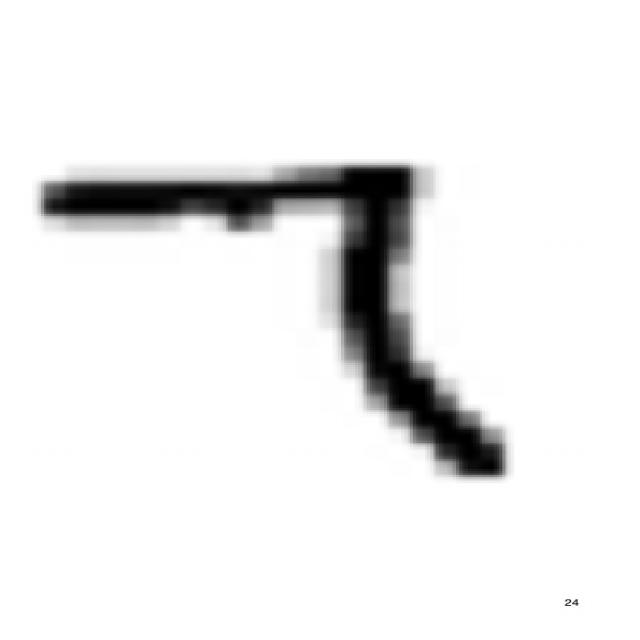6 -six-: (24, 150, 526, 488)
